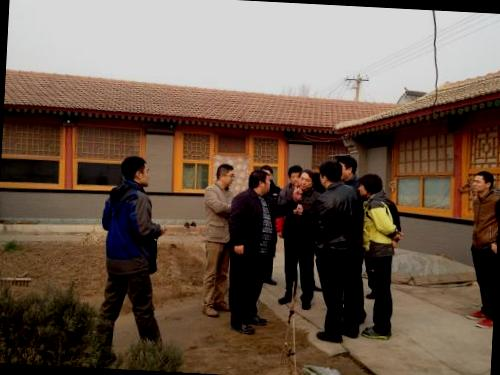no_helmet: (118, 150, 151, 187), (246, 165, 274, 197), (469, 168, 497, 198), (318, 158, 344, 190), (357, 171, 384, 201), (214, 160, 237, 189), (339, 150, 362, 178), (299, 168, 316, 190)
